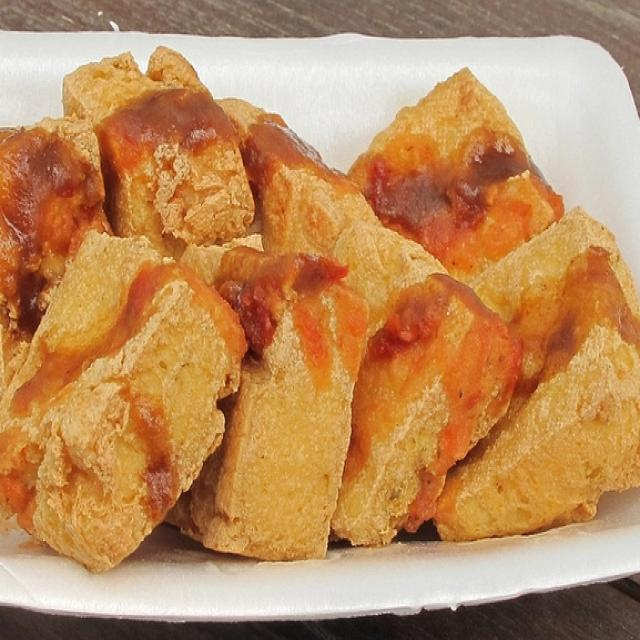豆腐料理: (4, 15, 634, 612)
